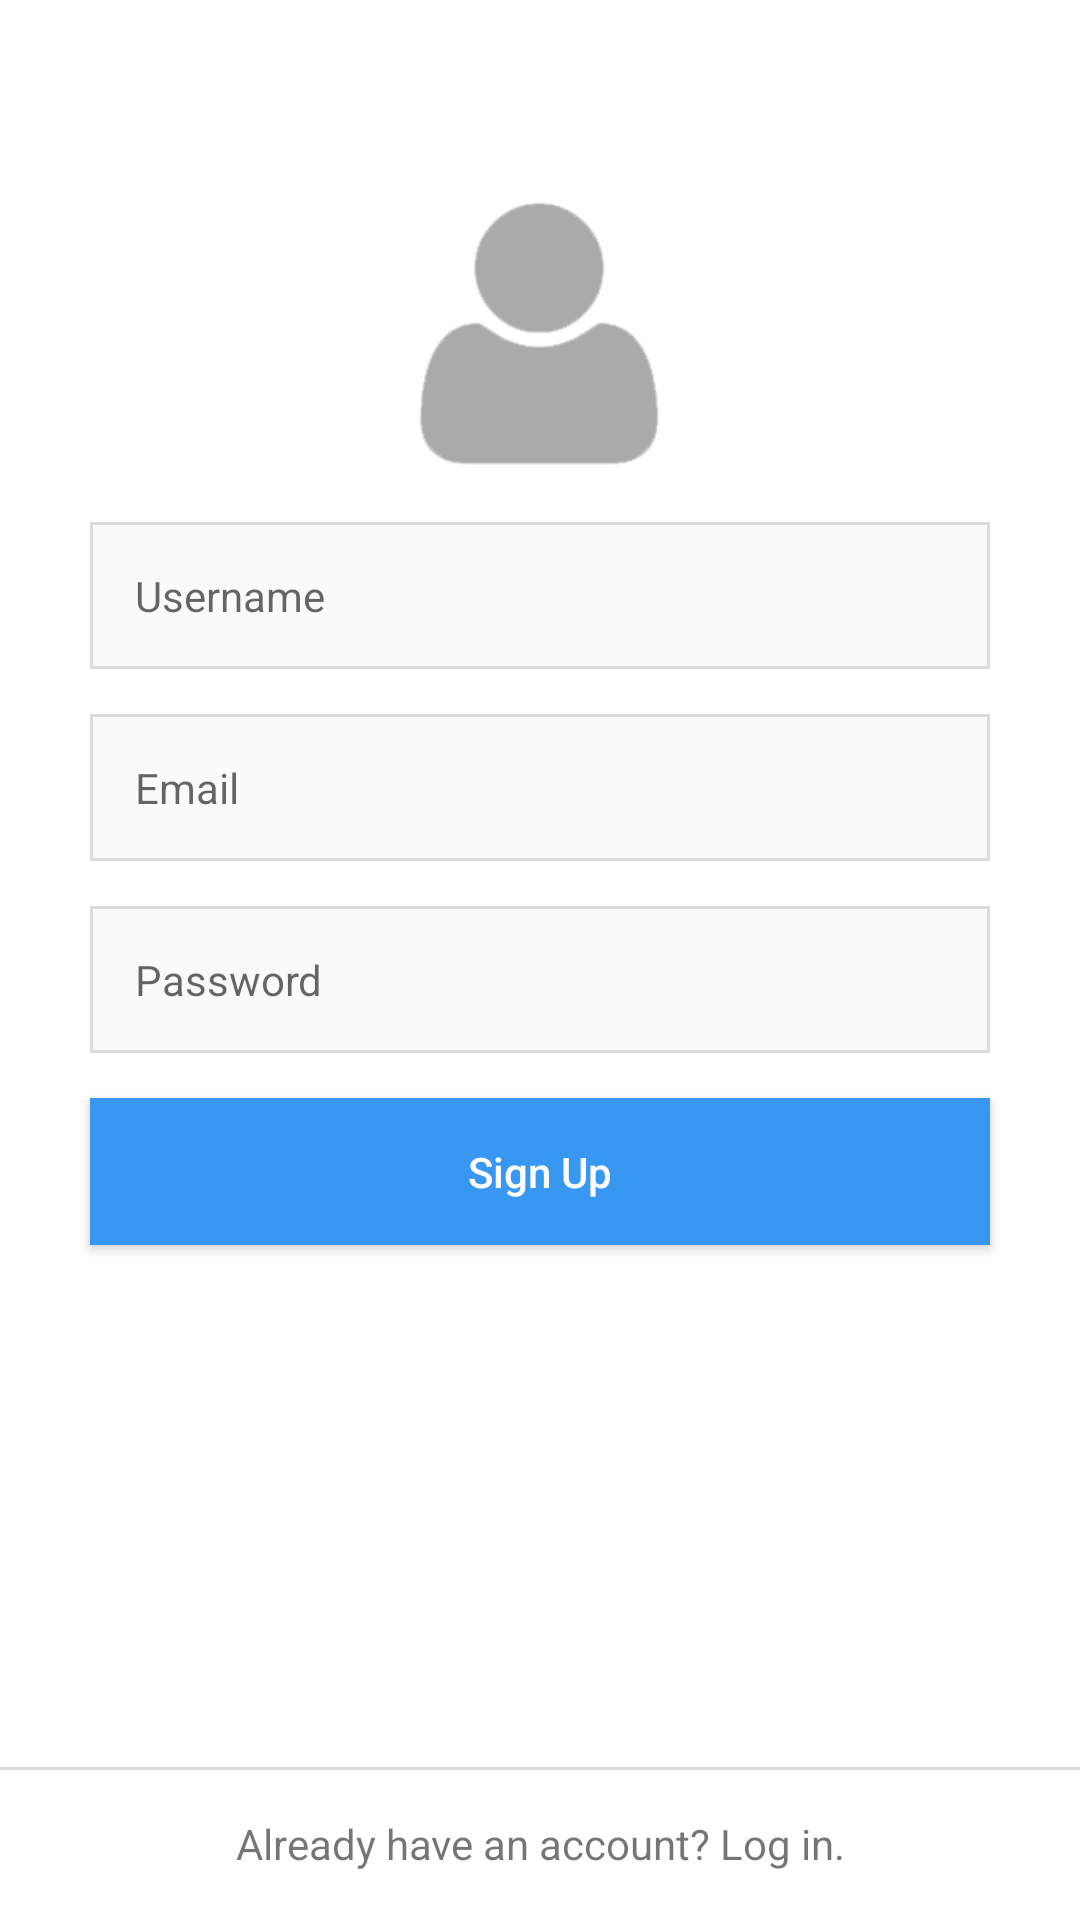

Where to tap for icons on this 1080×1920 app screen, as [x,y]:
profile: [539,333]
